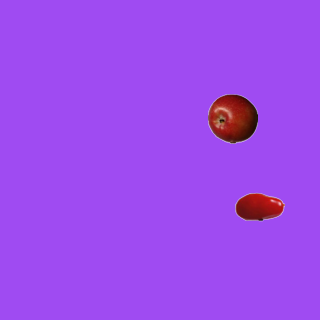Apple Braeburn: (207, 93, 257, 143)
Tomato 2: (234, 181, 284, 231)
